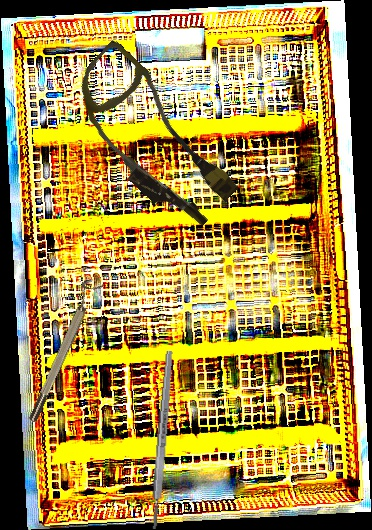Cannula: (50, 38, 255, 239)
Fixation Ring: (20, 275, 104, 425)
Scalpel Handle: (149, 350, 175, 530)
